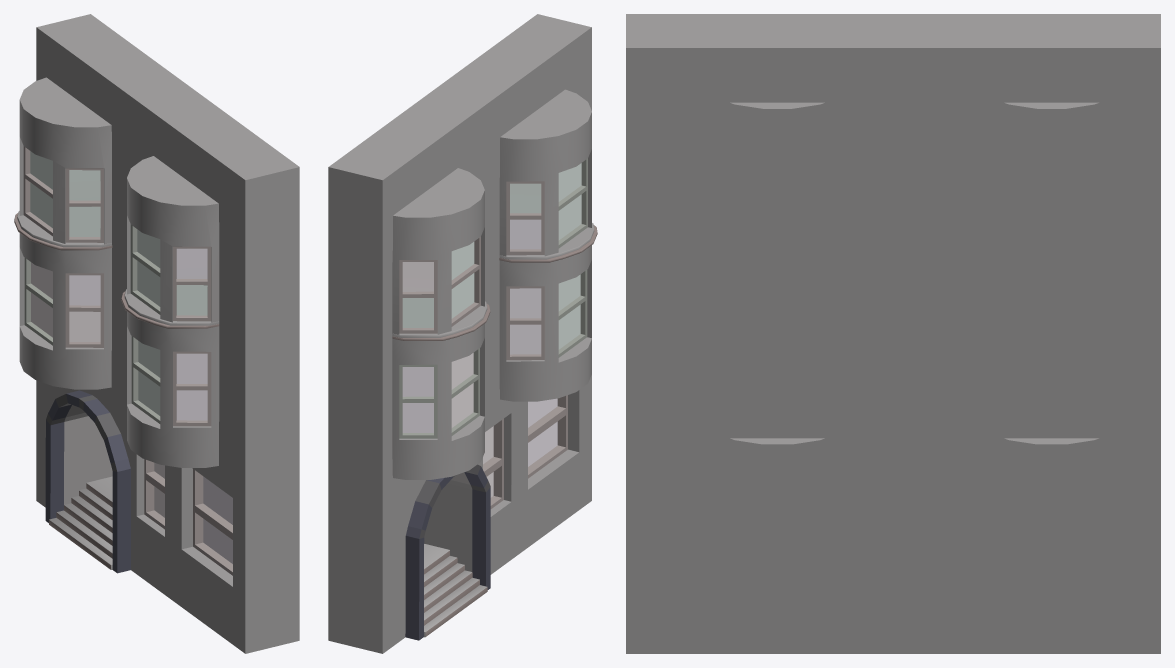
File: KA_facade_n2.fbx
3 renders of one model, left to right at view 1: azimuth 30°, elevation 25°; view 2: azimuth 150°, elevation 25°; view 3: azimuth 270°, elevation 25°, orthographic. The views are drawn at different scales.
Parts seen in each view (by area): view 1: Box005; view 2: Box005; view 3: Box005.
Part boxes in pixels (x1,y1,x2,y2): Box005: (14, 14, 299, 653); Box005: (328, 14, 597, 653); Box005: (626, 14, 1160, 653).
Size of the model in its own units: 308 by 1167 by 933.
